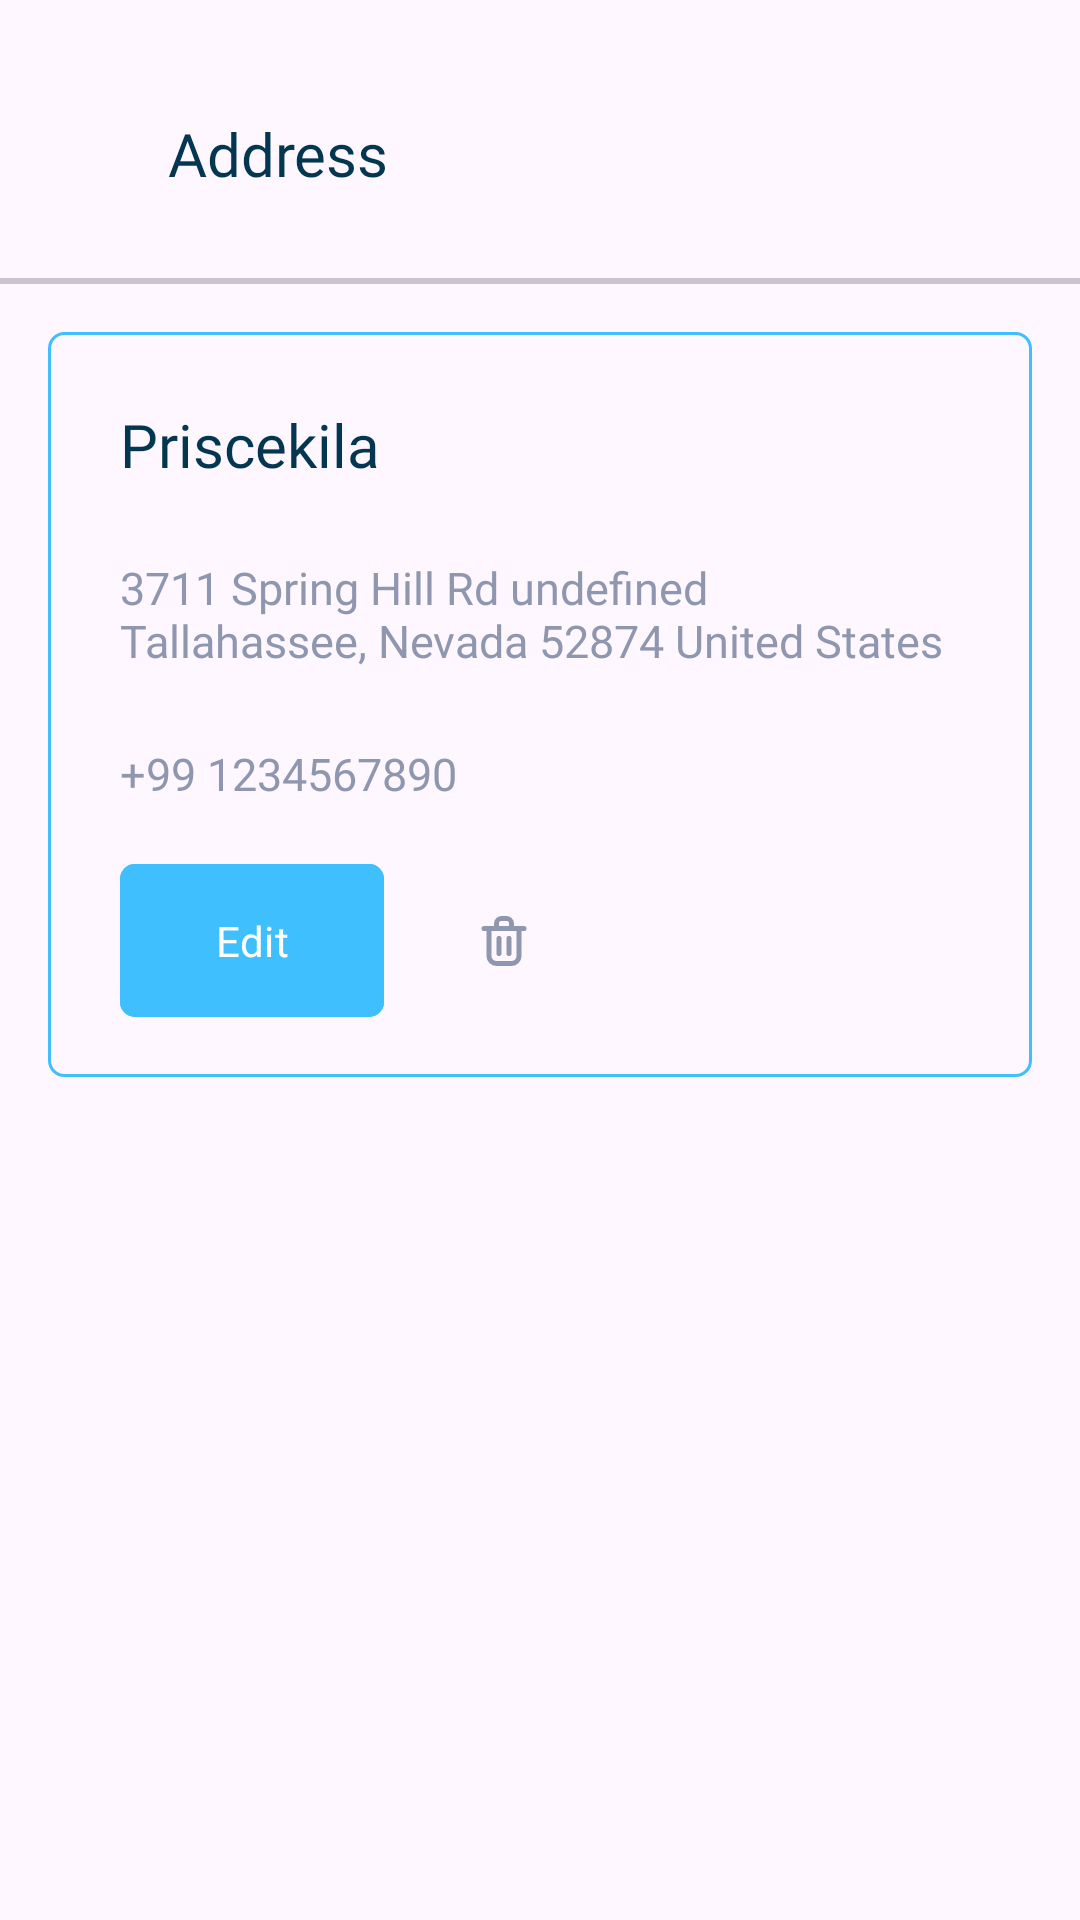

Where icons sit on this 1080*1920 app screen, as [left=x1, top=y1, right=x2, bottom=y2]:
delete: [left=481, top=916, right=527, bottom=966]
